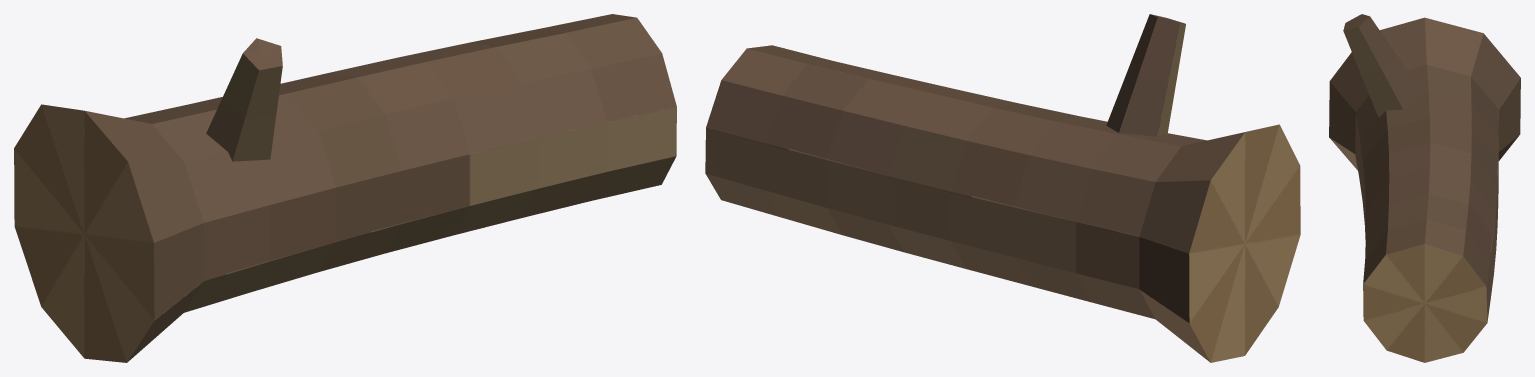
Rendered from SM_Log_Short.glb.
The picture shows the model from 3 angles, left to right: view 1: azimuth 30°, elevation 25°; view 2: azimuth 150°, elevation 25°; view 3: azimuth 270°, elevation 25°; orthographic projection. The views are drawn at different scales.
Visible parts, largest first — view 1: SM_Log_Short; view 2: SM_Log_Short; view 3: SM_Log_Short.
Boxes of the visible parts, x1,y1,x2,y2 form: SM_Log_Short: (14, 14, 676, 362); SM_Log_Short: (705, 14, 1300, 362); SM_Log_Short: (1329, 14, 1520, 362).
Bounding box in the file's own units: 1.32 × 0.7086 × 0.5381.
Materials: 1 (1 with a texture image).
